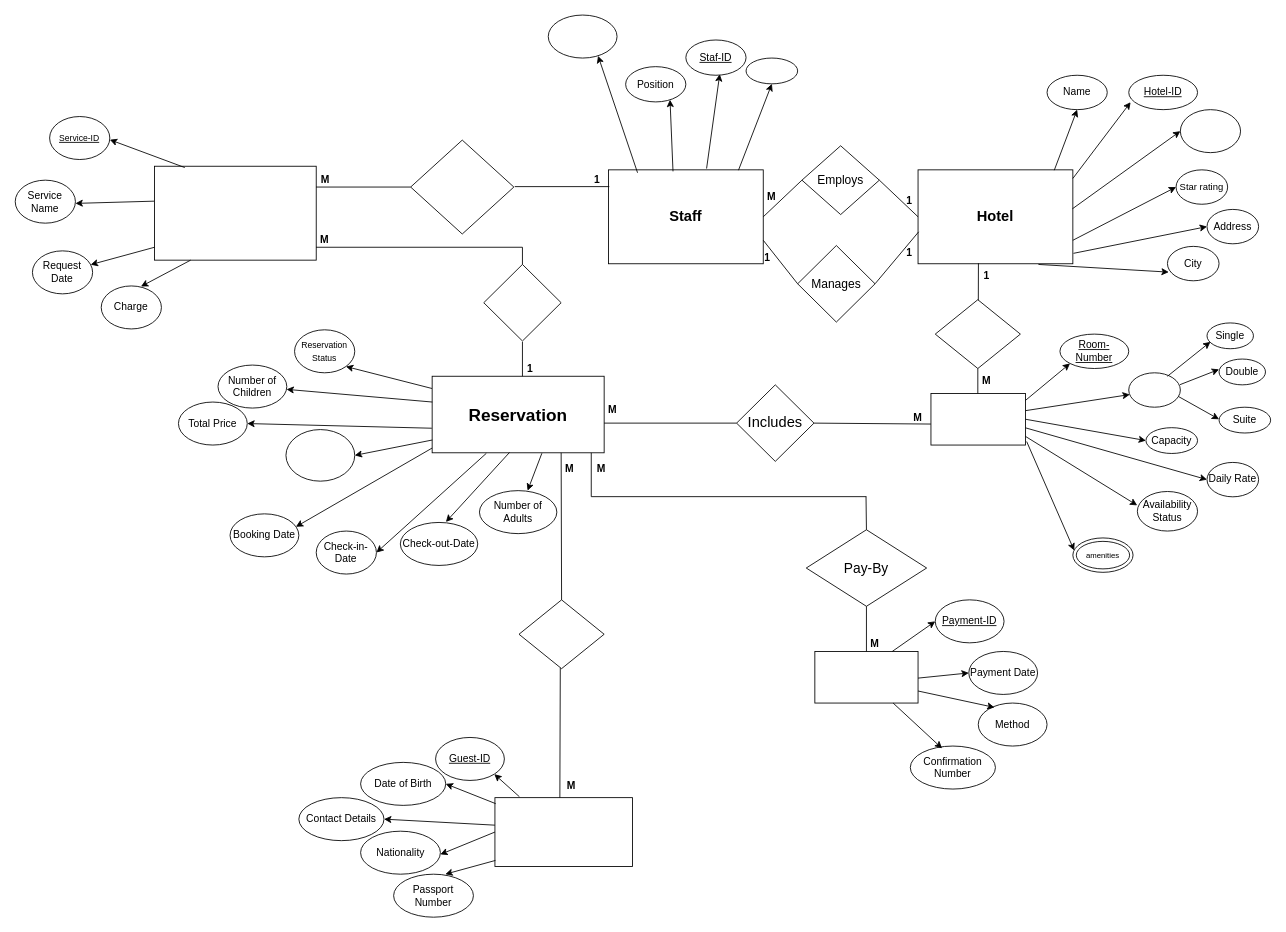
The diagram is 1286 pixels wide and 932 high, and some of its shapes have lost their labels. The centre of each missing label's shape, as x and y in pixels:
"Contact Number" belongs at [1210,131].
"Contains" belongs at [977,334].
"Full Name" belongs at [582,36].
"Guest" belongs at [563,831].
"Makes" belongs at [561,634].
"Payment" belongs at [866,677].
"Provides" belongs at [462,186].
"Requests" belongs at [522,302].
"Reservation-ID" belongs at [320,455].
"Room type" belongs at [1154,389].
"Rooms" belongs at [978,419].
"Salary" belongs at [771,70].
"Service" belongs at [235,212].
